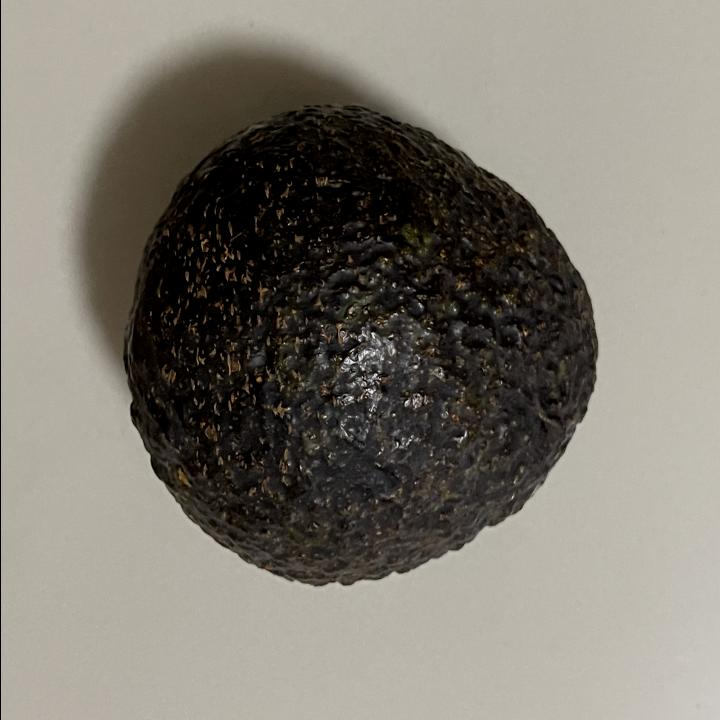Level3: (114, 93, 608, 600)
